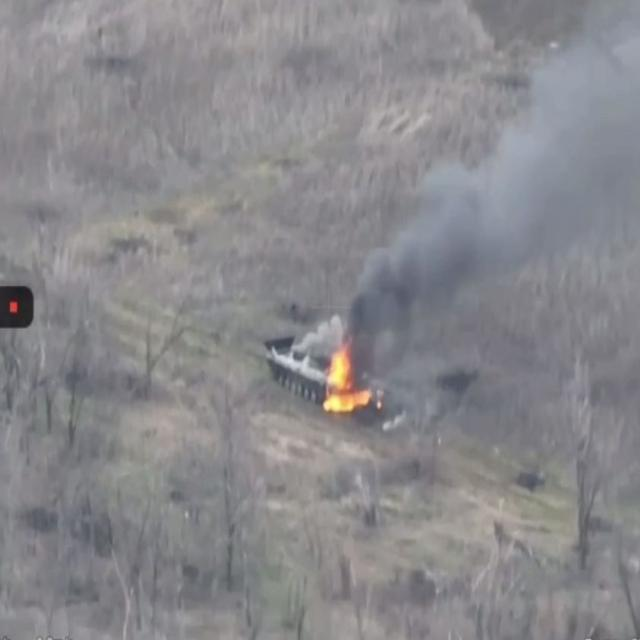vehicle: (246, 318, 366, 436)
